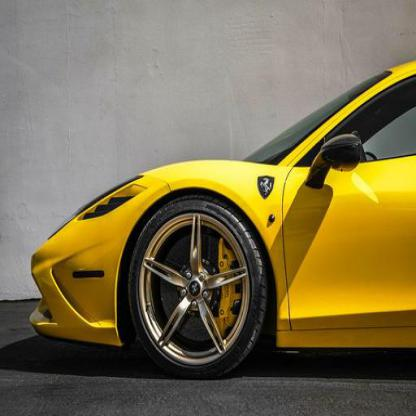Tire: (127, 196, 271, 379)
